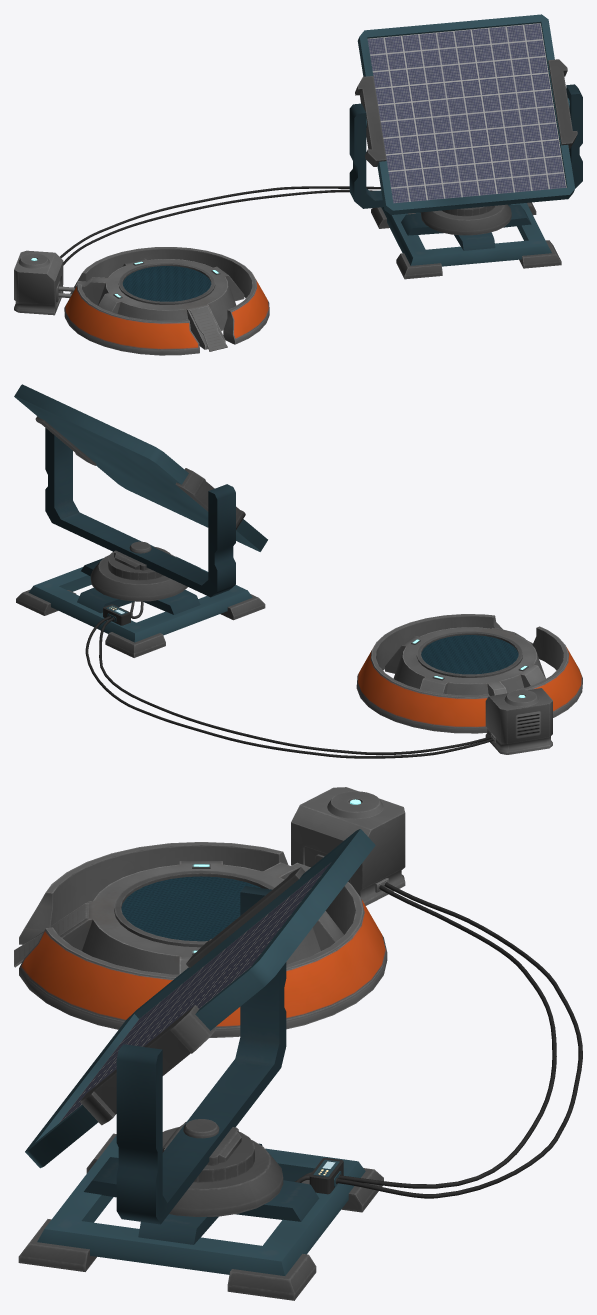
Rendered from charger.glb.
The picture shows the model from 3 angles, top to bottom: view 1: azimuth 30°, elevation 25°; view 2: azimuth 150°, elevation 25°; view 3: azimuth 270°, elevation 25°; orthographic projection. The views are drawn at different scales.
Visible parts, largest first — view 1: panel_low, main1_low, main2_low, base_low, support_low, sensors_low, accum_low, cabbbel_low, bigbutton_low, legs_low, base1_low, basing_low (+1 smaller); view 2: main1_low, panel_low, support_low, main2_low, base_low, accum_low, cabbbel_low, bigbutton_low, legs_low, base1_low, sensors_low, basing_low (+1 smaller); view 3: main1_low, support_low, panel_low, main2_low, base_low, accum_low, cabbbel_low, legs_low, sensors_low, base1_low, bigbutton_low, basing_low (+4 smaller).
Part boxes in pixels (x1=…): panel_low: x1=357, y1=14, x2=575, y2=214; main1_low: x1=64, y1=247, x2=269, y2=355; main2_low: x1=74, y1=258, x2=244, y2=349; base_low: x1=381, y1=203, x2=551, y2=266; support_low: x1=349, y1=84, x2=582, y2=208; sensors_low: x1=355, y1=59, x2=577, y2=166; accum_low: x1=14, y1=250, x2=63, y2=315; cabbbel_low: x1=60, y1=186, x2=380, y2=265; bigbutton_low: x1=421, y1=204, x2=511, y2=235; legs_low: x1=371, y1=202, x2=561, y2=279; base1_low: x1=401, y1=204, x2=531, y2=250; basing_low: x1=118, y1=262, x2=215, y2=304; main1_low: x1=356, y1=614, x2=582, y2=733; panel_low: x1=14, y1=384, x2=267, y2=551; support_low: x1=45, y1=428, x2=235, y2=597; main2_low: x1=385, y1=627, x2=545, y2=695; base_low: x1=28, y1=544, x2=252, y2=642; accum_low: x1=485, y1=688, x2=552, y2=754; cabbbel_low: x1=85, y1=616, x2=493, y2=758; bigbutton_low: x1=90, y1=554, x2=187, y2=601; legs_low: x1=16, y1=589, x2=265, y2=657; base1_low: x1=77, y1=556, x2=200, y2=614; sensors_low: x1=35, y1=416, x2=245, y2=529; basing_low: x1=416, y1=631, x2=522, y2=677; main1_low: x1=19, y1=842, x2=387, y2=1037; support_low: x1=116, y1=886, x2=286, y2=1224; panel_low: x1=25, y1=829, x2=375, y2=1168; main2_low: x1=30, y1=861, x2=343, y2=974; base_low: x1=37, y1=1135, x2=365, y2=1275; accum_low: x1=291, y1=787, x2=405, y2=905; cabbbel_low: x1=337, y1=882, x2=582, y2=1198; legs_low: x1=18, y1=1133, x2=383, y2=1300; sensors_low: x1=80, y1=867, x2=305, y2=1125; base1_low: x1=84, y1=1143, x2=319, y2=1244; bigbutton_low: x1=169, y1=1140, x2=283, y2=1216; basing_low: x1=114, y1=870, x2=274, y2=947.
Bounding box in the file's own units: 70.78 × 25.23 × 37.77.
2 materials, 2 textured.
